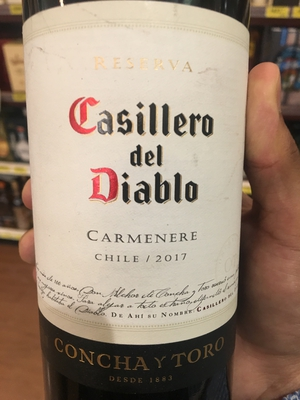casillero del diablo carmenere: (25, 7, 253, 400)
